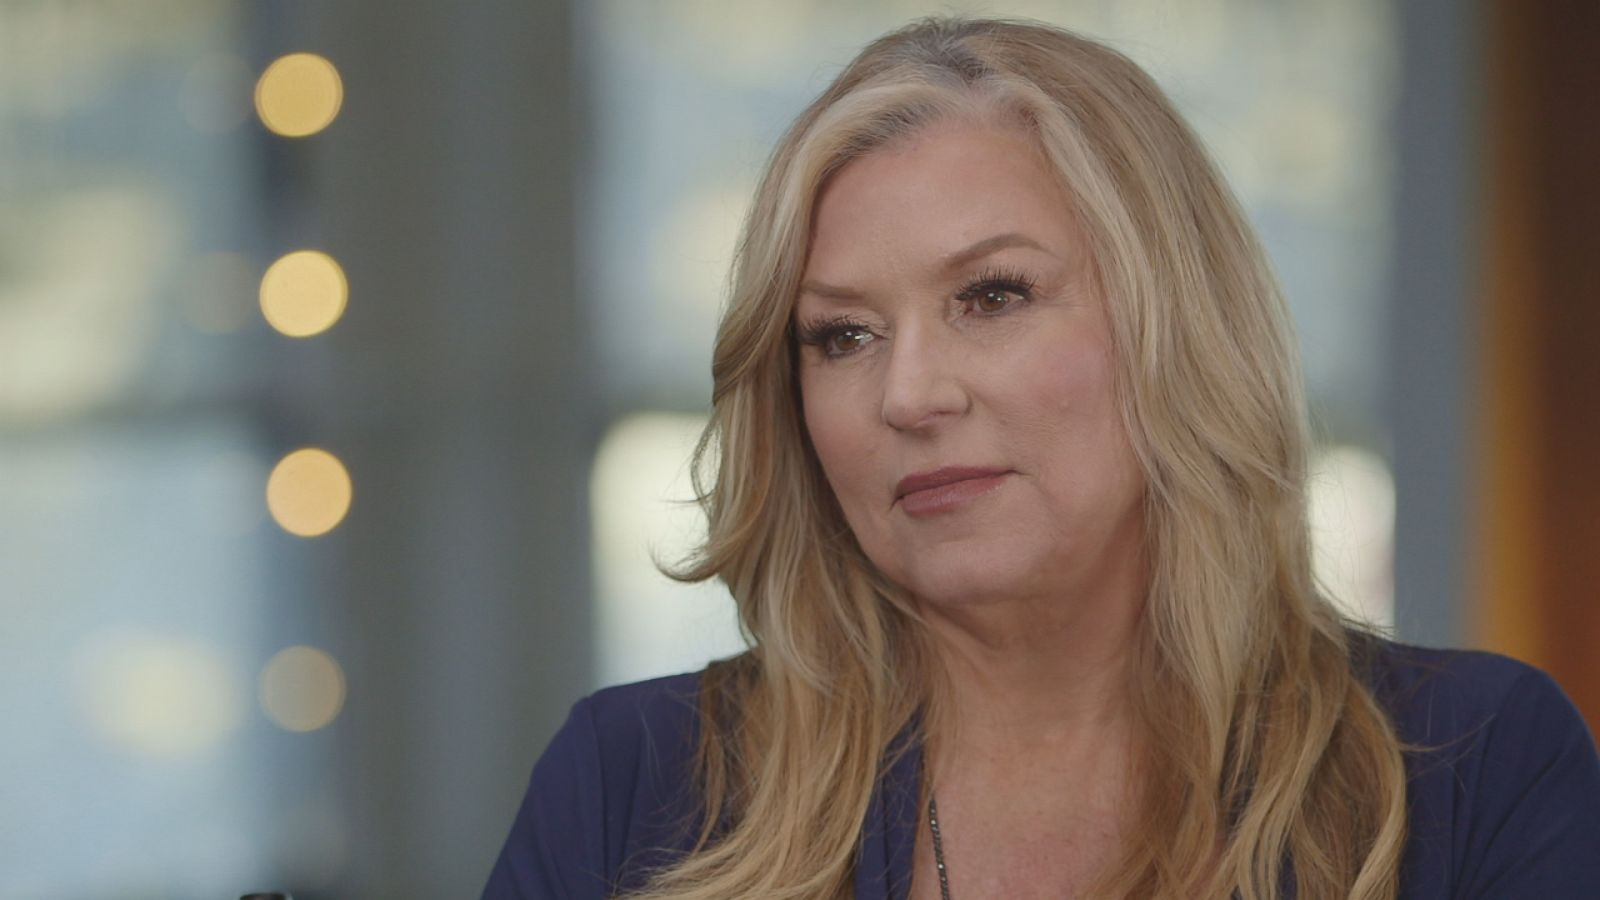woman: (725, 23, 1282, 614)
